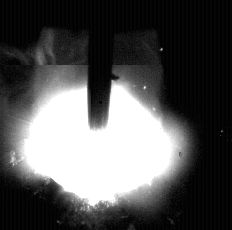arame: (89, 0, 111, 131)
poca: (24, 0, 170, 230)
